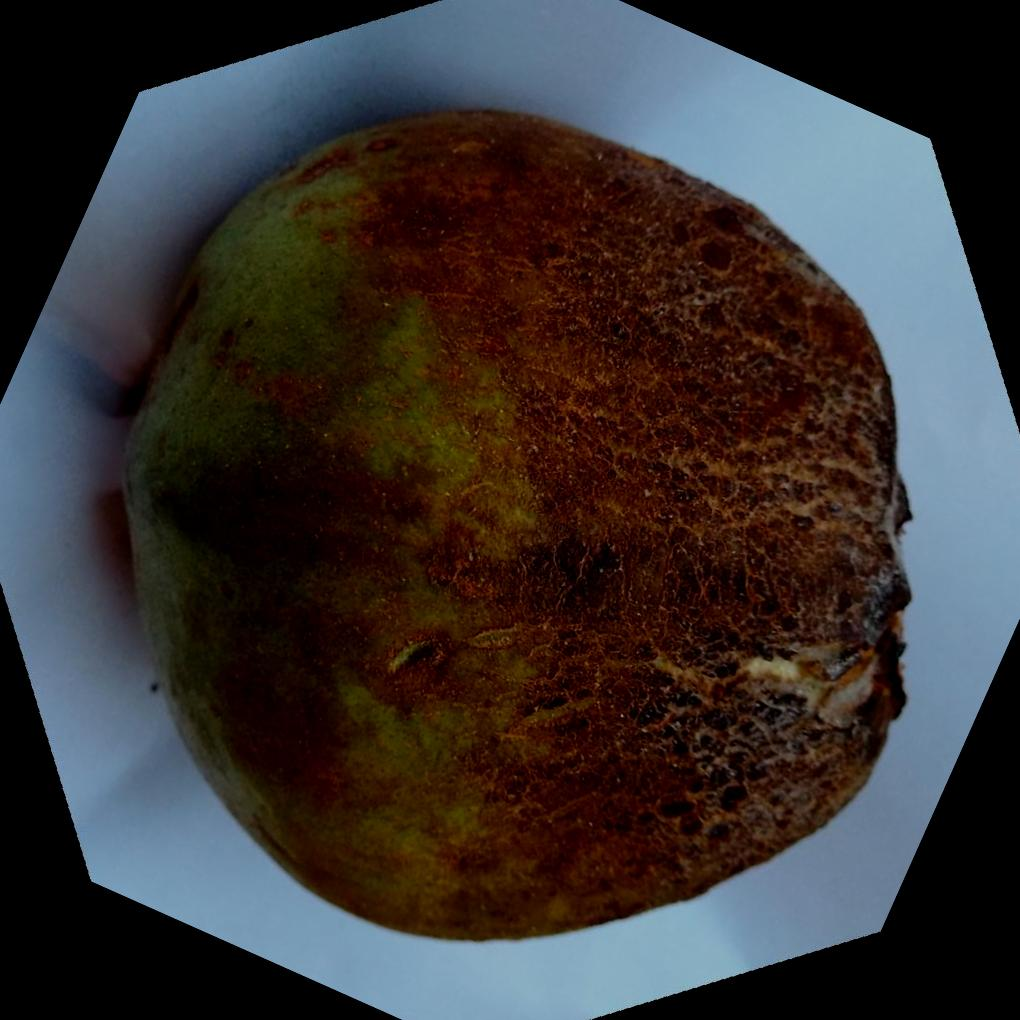FreshOrange: (116, 103, 911, 944)
